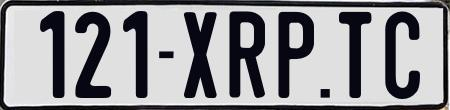1: (38, 11, 66, 101), (120, 8, 147, 95)
2: (75, 9, 116, 95)
C: (383, 8, 419, 96)
P: (276, 11, 318, 97)
R: (229, 10, 271, 99)
T: (338, 10, 375, 101)
X: (184, 11, 223, 101)
